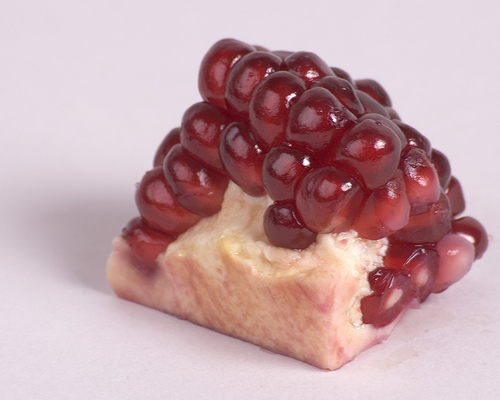pomogranate: (102, 34, 494, 382)
